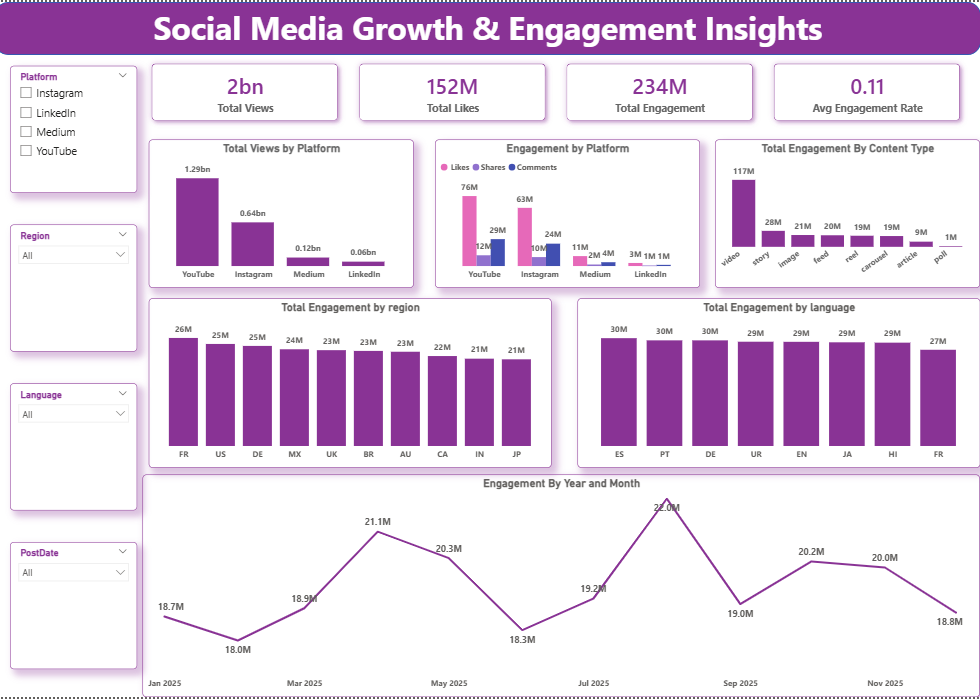

What the dashboard file says about the page in this screenshot:
{"tool":"powerbi","page":{"name":"Page 1","canvas":[1480,1050],"ordinal":0},"visuals":[{"type":"cardVisual","fields":{"Data":["social_media_performance.Total Views","social_media_performance.Total Likes","social_media_performance.Total Engagement","social_media_performance.Avg Engagement Rate"]},"box":[200,64,1280,144],"z":0},{"type":"clusteredColumnChart","title":"Engagement by Platform","fields":{"Category":["social_media_performance.platform"],"Y":["Sum(social_media_performance.likes)","Sum(social_media_performance.shares)","Sum(social_media_performance.comments)"]},"box":[656,208,400,224],"z":1000},{"type":"columnChart","fields":{"Category":["social_media_performance.platform"],"Y":["social_media_performance.Total Views"]},"box":[224,208,400,224],"z":2000},{"type":"columnChart","title":"Total Engagement By Content Type","fields":{"Category":["social_media_performance.content_type"],"Y":["social_media_performance.Total Engagement"]},"box":[1080,208,400,224],"z":3000},{"type":"lineChart","title":"Engagement By Year and Month","fields":{"Category":["social_media_performance.post_datet.Variation.Date Hierarchy.Year","social_media_performance.post_datet.Variation.Date Hierarchy.Month"],"Y":["social_media_performance.Total Engagement"]},"box":[216,714,1264,336],"z":4000},{"type":"columnChart","fields":{"Category":["social_media_performance.region"],"Y":["social_media_performance.Total Engagement"]},"box":[224,448,608,256],"z":4001},{"type":"columnChart","fields":{"Y":["social_media_performance.Total Engagement"],"Category":["social_media_performance.language"]},"box":[872,448,608,256],"z":4002},{"type":"shape","box":[-8,0,1488,80],"z":4003},{"type":"textbox","box":[-8,0,1488,80],"z":4004},{"type":"slicer","fields":{"Values":["social_media_performance.platform"]},"box":[16,96,192,192],"z":4005},{"type":"slicer","fields":{"Values":["social_media_performance.region"]},"box":[16,336,192,192],"z":4006},{"type":"slicer","fields":{"Values":["social_media_performance.language"]},"box":[16,576,192,192],"z":4007},{"type":"slicer","fields":{"Values":["social_media_performance.post_datet"]},"box":[16,816,192,192],"z":4008}]}

Visuals, with their boxes in screenshot pixels (x1, y1, x2, y2), scaled from the page's 1480x1050 canvas onto the 980x700 screenshot:
cardVisual - social_media_performance.Total Views x social_media_performance.Total Likes: bbox(132, 43, 979, 139)
"Engagement by Platform" clusteredColumnChart: bbox(434, 139, 699, 288)
columnChart - social_media_performance.platform x social_media_performance.Total Views: bbox(148, 139, 413, 288)
"Total Engagement By Content Type" columnChart: bbox(715, 139, 979, 288)
"Engagement By Year and Month" lineChart: bbox(143, 476, 979, 699)
columnChart - social_media_performance.region x social_media_performance.Total Engagement: bbox(148, 299, 551, 469)
columnChart - social_media_performance.Total Engagement x social_media_performance.language: bbox(577, 299, 979, 469)
shape: bbox(0, 0, 979, 53)
textbox: bbox(0, 0, 979, 53)
slicer - social_media_performance.platform: bbox(11, 64, 138, 192)
slicer - social_media_performance.region: bbox(11, 224, 138, 352)
slicer - social_media_performance.language: bbox(11, 384, 138, 512)
slicer - social_media_performance.post_datet: bbox(11, 544, 138, 672)
